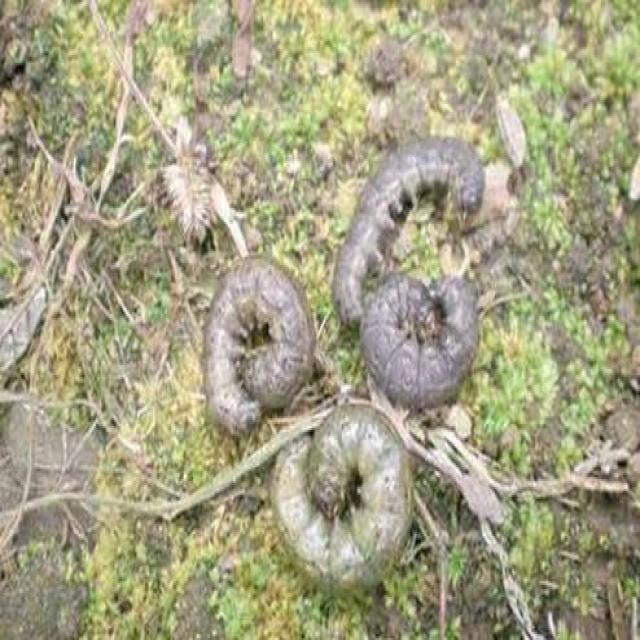black cutworm: (331, 124, 487, 334), (273, 409, 429, 590), (200, 260, 315, 429), (363, 270, 490, 411)
